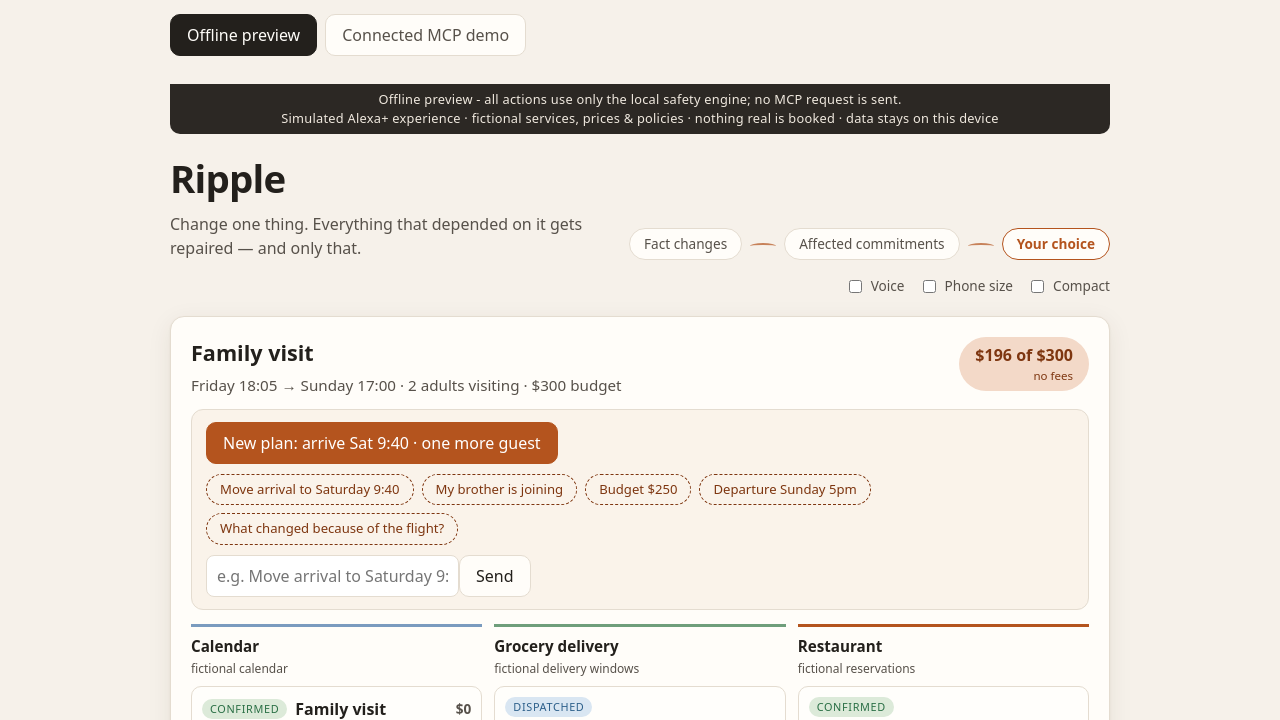
Test case: offline save feedback › reloads the older saved approval after a failed execution save without automatically executing it
This screenshot has width=1280, height=720.
Click the button "Move arrival to Saturday 9:40" at {"x": 310, "y": 489}, box x1=206 y1=474 x2=414 y2=505
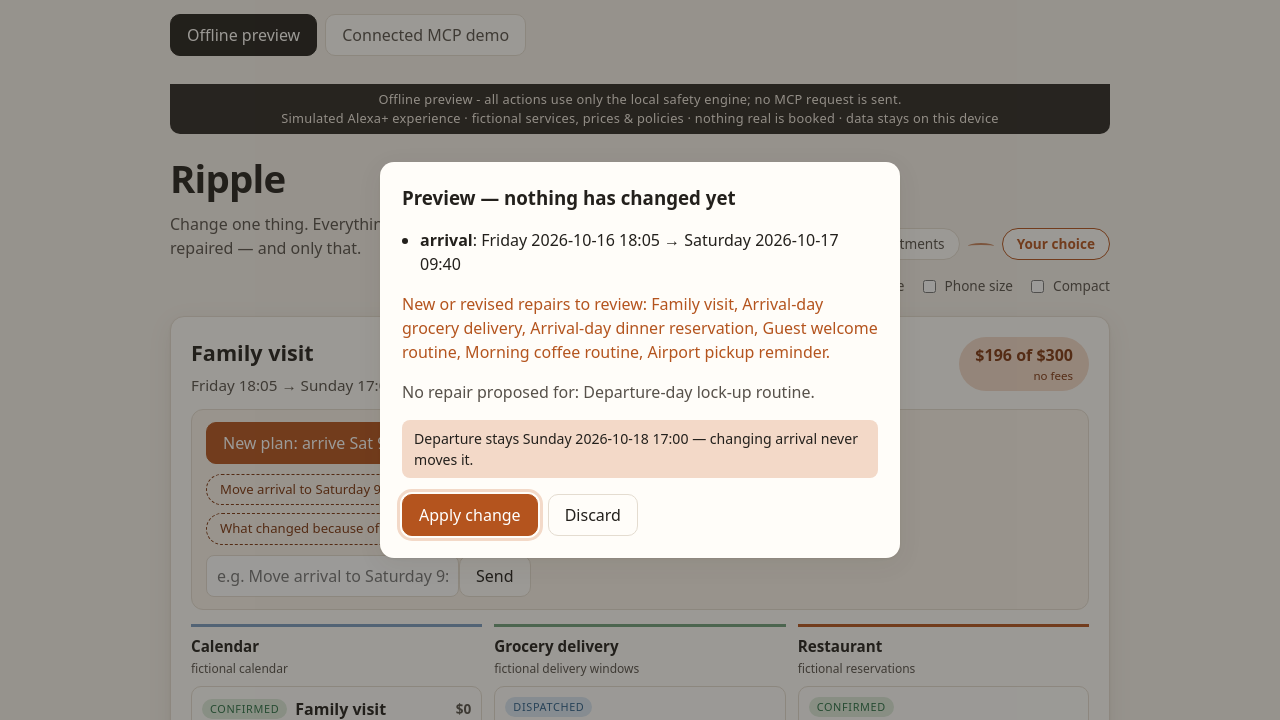
Click the button "Apply change" at {"x": 470, "y": 515}, box x1=402 y1=494 x2=538 y2=536
(page scrolled)
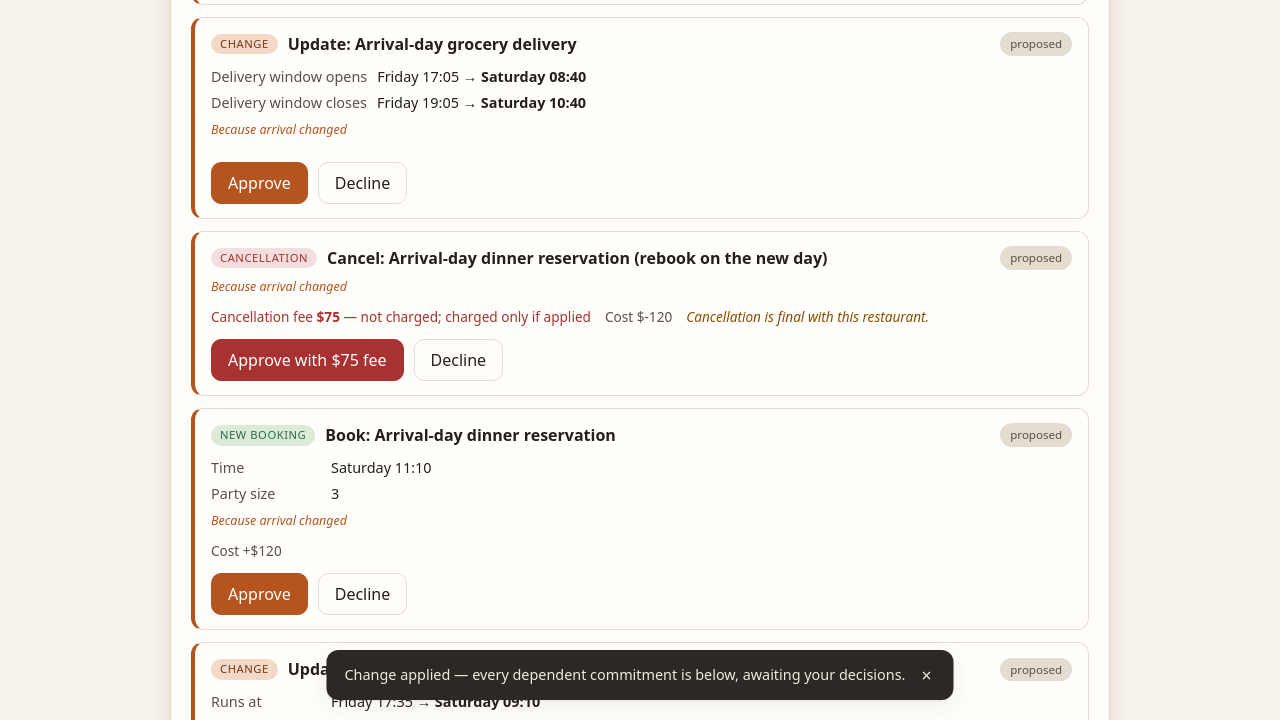
Click the button "Approve with $75 fee" at {"x": 307, "y": 360}, box x1=211 y1=339 x2=404 y2=381
(page scrolled)
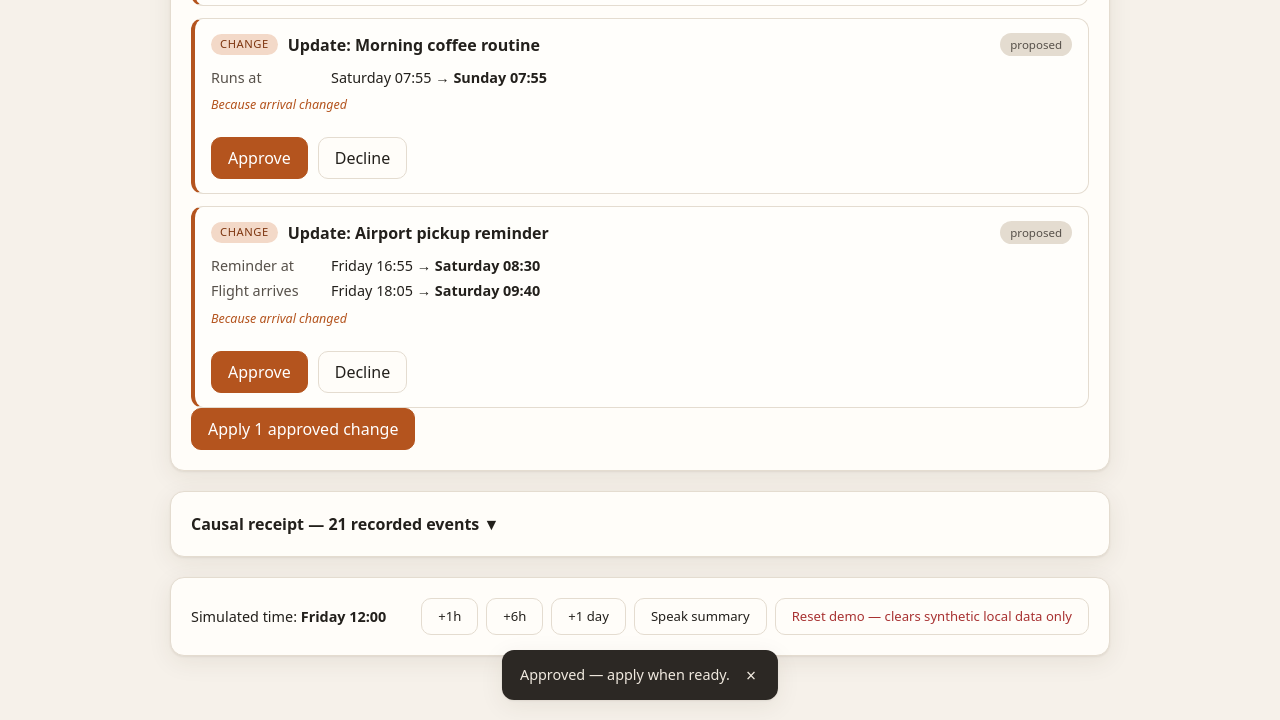
Click the button "Apply 1 approved change" at {"x": 303, "y": 429}, box x1=191 y1=408 x2=415 y2=450
(page scrolled)
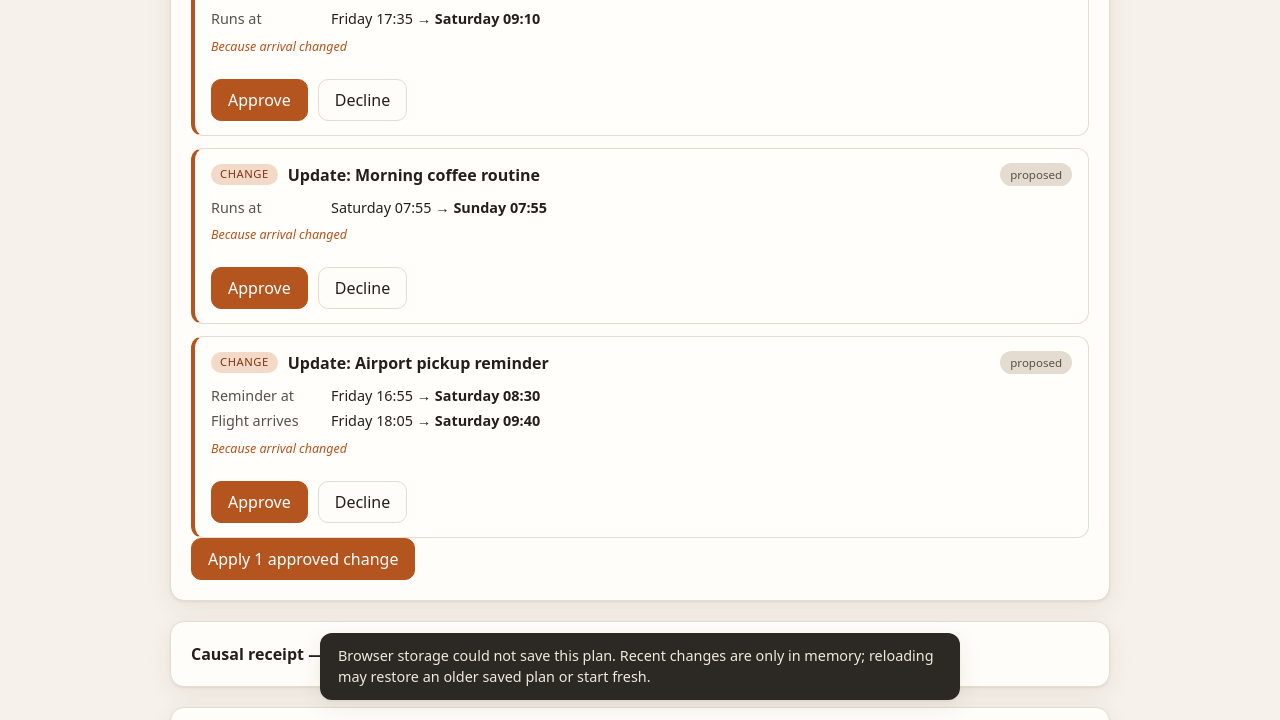
Expected: the message is shown, x1=320 y1=633 x2=960 y2=700
